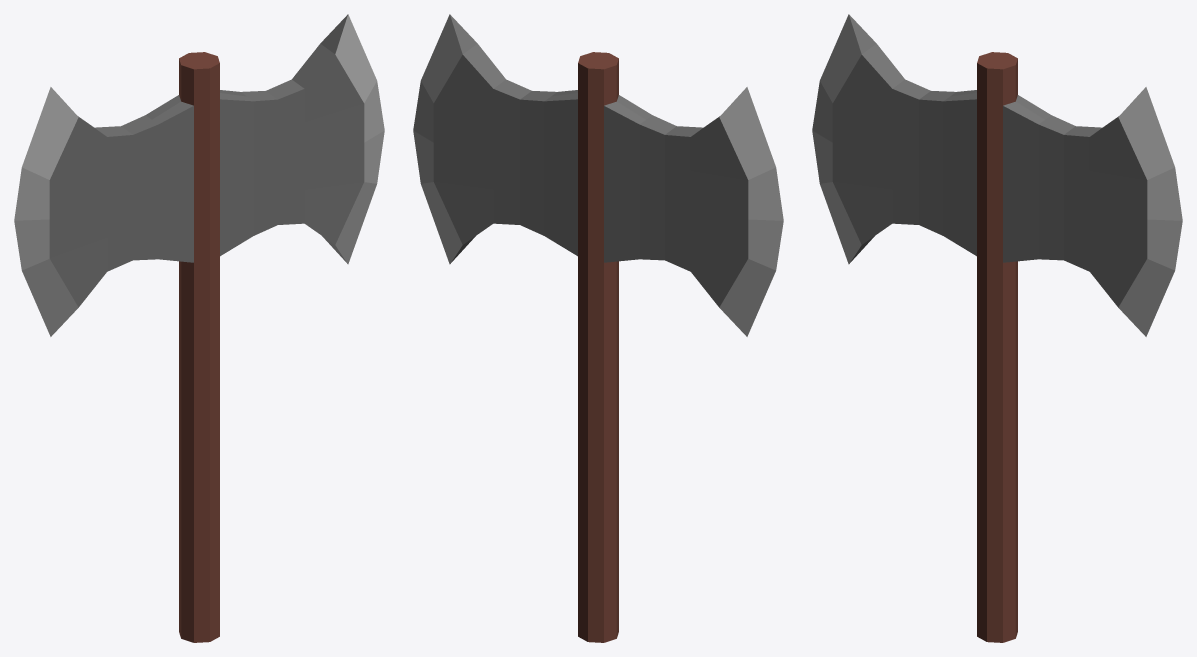
File: Axe.fbx
The picture shows the model from 3 angles, left to right: view 1: azimuth 30°, elevation 25°; view 2: azimuth 150°, elevation 25°; view 3: azimuth 330°, elevation 25°; orthographic projection.
Parts seen in each view (by area): view 1: Axe; view 2: Axe; view 3: Axe.
Boxes of the visible parts, x1,y1,x2,y2 form: Axe: [14, 14, 384, 642]; Axe: [413, 14, 783, 642]; Axe: [812, 14, 1182, 642].
Size of the model in its own units: 557 by 839 by 55.12.
